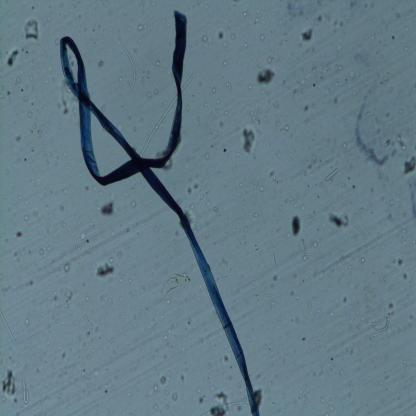Background material: (352, 120, 391, 167), (0, 367, 20, 404), (325, 208, 352, 231), (212, 387, 230, 416), (355, 92, 373, 121), (22, 16, 40, 44), (240, 126, 256, 154), (289, 213, 303, 242), (161, 333, 176, 360), (161, 276, 181, 296), (256, 67, 277, 86), (94, 260, 116, 278), (306, 156, 324, 177), (297, 239, 312, 264), (286, 2, 305, 20), (401, 155, 416, 177), (5, 47, 20, 68), (143, 50, 160, 68), (300, 149, 312, 174), (57, 92, 69, 117), (100, 200, 115, 218), (397, 128, 408, 152), (300, 25, 314, 43), (407, 193, 416, 220), (153, 375, 167, 392), (186, 178, 199, 196), (398, 234, 416, 247), (378, 77, 389, 98), (360, 0, 375, 14), (386, 299, 395, 320), (79, 228, 90, 245), (290, 84, 303, 98), (270, 271, 283, 285), (389, 139, 398, 158), (64, 286, 73, 304), (210, 104, 222, 117), (347, 69, 358, 83), (338, 252, 352, 263), (268, 169, 278, 184), (178, 272, 190, 284), (379, 167, 391, 179), (344, 346, 356, 358), (215, 28, 226, 41), (212, 205, 222, 219), (196, 393, 208, 404), (148, 86, 159, 98), (274, 116, 282, 132), (44, 214, 53, 228), (271, 247, 278, 265), (271, 97, 281, 109), (24, 277, 34, 289), (51, 289, 59, 304), (333, 63, 343, 75), (401, 271, 410, 284), (396, 255, 404, 269), (386, 211, 394, 225), (15, 228, 24, 240), (333, 20, 345, 29), (0, 282, 10, 292), (178, 373, 187, 384), (43, 156, 52, 167), (62, 262, 71, 273), (14, 132, 23, 143), (360, 76, 369, 87), (318, 267, 325, 281), (24, 314, 32, 326), (331, 93, 339, 105), (199, 190, 207, 202), (303, 103, 310, 116), (73, 12, 82, 22), (349, 0, 358, 10), (316, 13, 325, 23), (172, 391, 180, 402), (253, 91, 261, 102), (139, 282, 147, 293), (98, 59, 106, 70), (320, 395, 328, 405), (357, 254, 365, 264), (106, 254, 116, 262), (172, 228, 180, 238), (159, 16, 167, 26), (379, 186, 387, 196), (295, 316, 301, 328), (186, 315, 192, 327), (221, 354, 229, 363), (154, 401, 160, 413), (317, 73, 326, 81), (30, 128, 42, 134), (188, 202, 196, 211), (136, 24, 145, 32), (143, 68, 150, 78), (38, 245, 44, 256), (136, 360, 141, 373), (296, 387, 304, 395), (82, 185, 90, 193), (14, 75, 21, 84), (202, 152, 211, 159), (22, 212, 28, 222), (259, 31, 265, 41), (63, 350, 69, 360), (131, 198, 137, 208), (258, 185, 265, 193), (243, 41, 250, 49), (253, 16, 260, 24), (16, 194, 24, 201), (340, 296, 347, 304), (368, 186, 376, 193), (5, 90, 12, 98), (386, 110, 392, 119), (12, 249, 18, 258), (208, 384, 214, 393), (326, 64, 332, 73), (336, 43, 342, 52), (46, 64, 52, 73), (125, 224, 130, 234), (60, 187, 67, 194), (349, 184, 356, 191), (338, 368, 344, 376), (390, 180, 396, 188), (266, 56, 272, 64), (5, 170, 13, 176), (26, 113, 34, 119), (311, 66, 317, 74), (23, 94, 29, 102), (361, 379, 369, 385), (117, 252, 123, 260), (388, 198, 394, 206), (395, 11, 401, 19), (107, 295, 112, 304), (45, 337, 50, 346), (24, 82, 29, 91), (166, 371, 170, 382), (390, 34, 396, 41), (143, 304, 149, 311), (0, 232, 7, 238), (384, 373, 391, 379), (328, 354, 333, 362), (271, 300, 276, 308), (290, 290, 295, 298), (35, 366, 39, 376), (119, 294, 124, 302), (247, 83, 253, 89), (127, 278, 133, 284), (26, 249, 32, 255), (0, 273, 4, 282), (314, 228, 320, 234), (132, 126, 138, 132), (212, 85, 216, 94), (102, 389, 108, 395), (221, 148, 227, 154), (332, 28, 338, 34), (55, 36, 59, 45), (37, 400, 42, 407), (185, 104, 190, 111), (30, 146, 35, 153), (302, 77, 306, 85), (107, 339, 115, 343), (166, 297, 170, 305), (174, 320, 178, 328), (329, 403, 333, 411), (47, 246, 51, 254), (86, 295, 90, 303), (60, 205, 64, 213), (313, 241, 318, 247), (26, 341, 31, 347), (284, 126, 289, 132), (91, 26, 96, 32), (352, 90, 357, 96), (22, 157, 28, 162), (44, 79, 50, 84), (344, 14, 349, 20), (379, 196, 385, 201), (27, 76, 32, 82), (59, 124, 63, 131), (316, 307, 320, 314), (359, 314, 363, 321), (371, 35, 375, 42), (336, 310, 340, 317), (398, 107, 402, 114), (137, 38, 142, 43), (219, 122, 224, 127), (311, 272, 316, 277), (25, 200, 30, 205), (0, 93, 5, 98), (218, 358, 223, 363), (294, 296, 300, 300), (282, 80, 286, 86), (2, 196, 8, 200), (260, 90, 266, 94), (21, 46, 25, 52), (86, 332, 90, 338), (158, 66, 162, 72), (93, 186, 97, 192), (224, 109, 228, 115), (96, 205, 100, 211), (118, 278, 122, 284), (89, 221, 93, 227), (312, 82, 316, 88), (91, 338, 94, 345), (331, 310, 334, 317), (285, 38, 289, 43), (165, 406, 170, 410), (287, 86, 292, 90), (42, 190, 47, 194), (46, 254, 50, 259), (31, 5, 35, 10), (395, 197, 399, 202), (20, 88, 24, 93), (324, 411, 328, 416), (143, 266, 147, 271), (314, 340, 319, 344), (100, 191, 104, 196), (402, 359, 406, 364), (308, 348, 311, 354), (347, 175, 350, 181), (349, 264, 352, 270), (82, 368, 85, 374), (405, 46, 408, 52), (318, 83, 321, 88), (38, 178, 41, 183), (168, 328, 171, 333), (302, 338, 307, 341), (307, 184, 310, 188), (26, 50, 29, 54), (344, 78, 347, 82), (31, 101, 33, 106), (315, 183, 317, 187), (284, 32, 286, 36), (97, 25, 101, 27), (20, 70, 22, 74), (317, 196, 319, 198)
Cotton: (56, 10, 262, 415)
Glass filter fibre: (140, 93, 179, 156), (371, 269, 398, 296), (0, 308, 17, 345), (123, 46, 137, 90), (370, 312, 391, 335), (44, 6, 52, 62), (72, 214, 82, 258), (181, 70, 197, 90), (353, 220, 368, 240), (20, 376, 30, 406), (152, 258, 168, 274), (250, 103, 262, 124), (325, 166, 340, 182), (131, 0, 146, 16), (206, 340, 216, 361), (298, 395, 308, 416), (83, 314, 94, 332), (289, 190, 300, 206), (408, 268, 416, 290), (142, 26, 152, 39), (227, 80, 233, 92)
